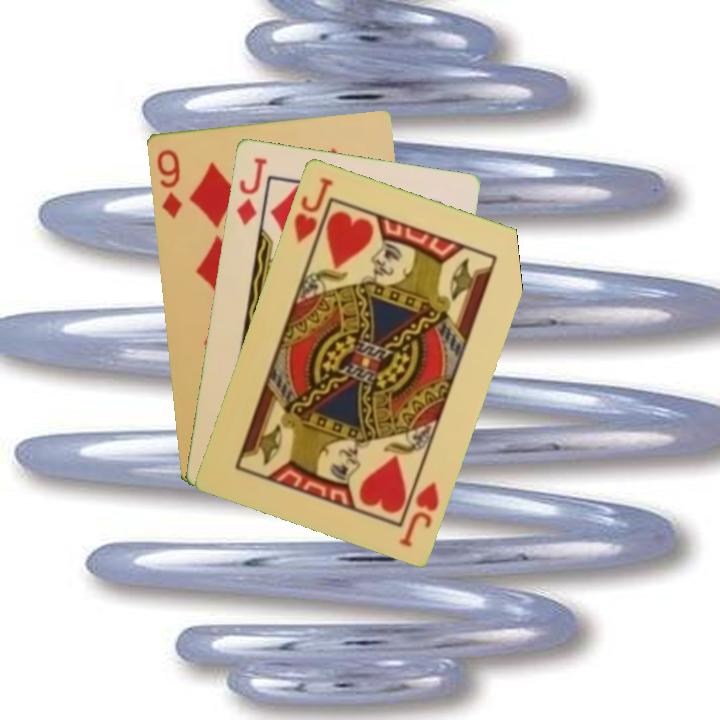9d: (153, 145, 185, 221)
Jd: (232, 153, 269, 228)
Jh: (290, 173, 336, 246), (395, 478, 442, 549)
